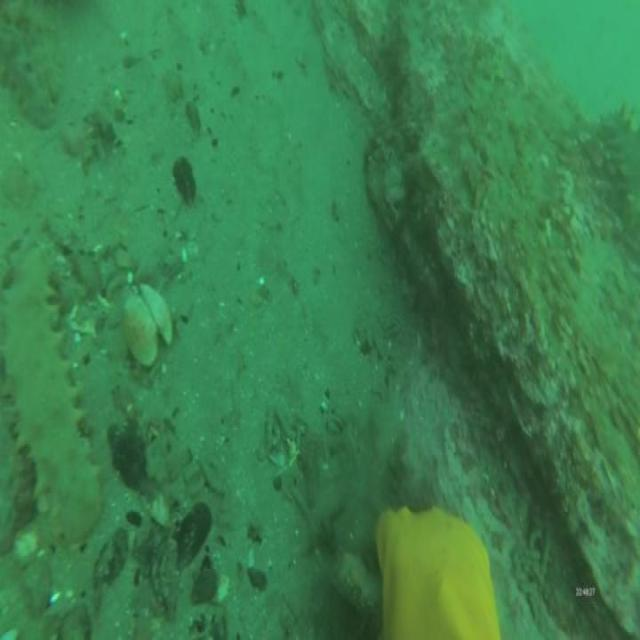holothurian: (0, 232, 108, 553), (590, 100, 640, 256)
scallop: (121, 284, 170, 370)
